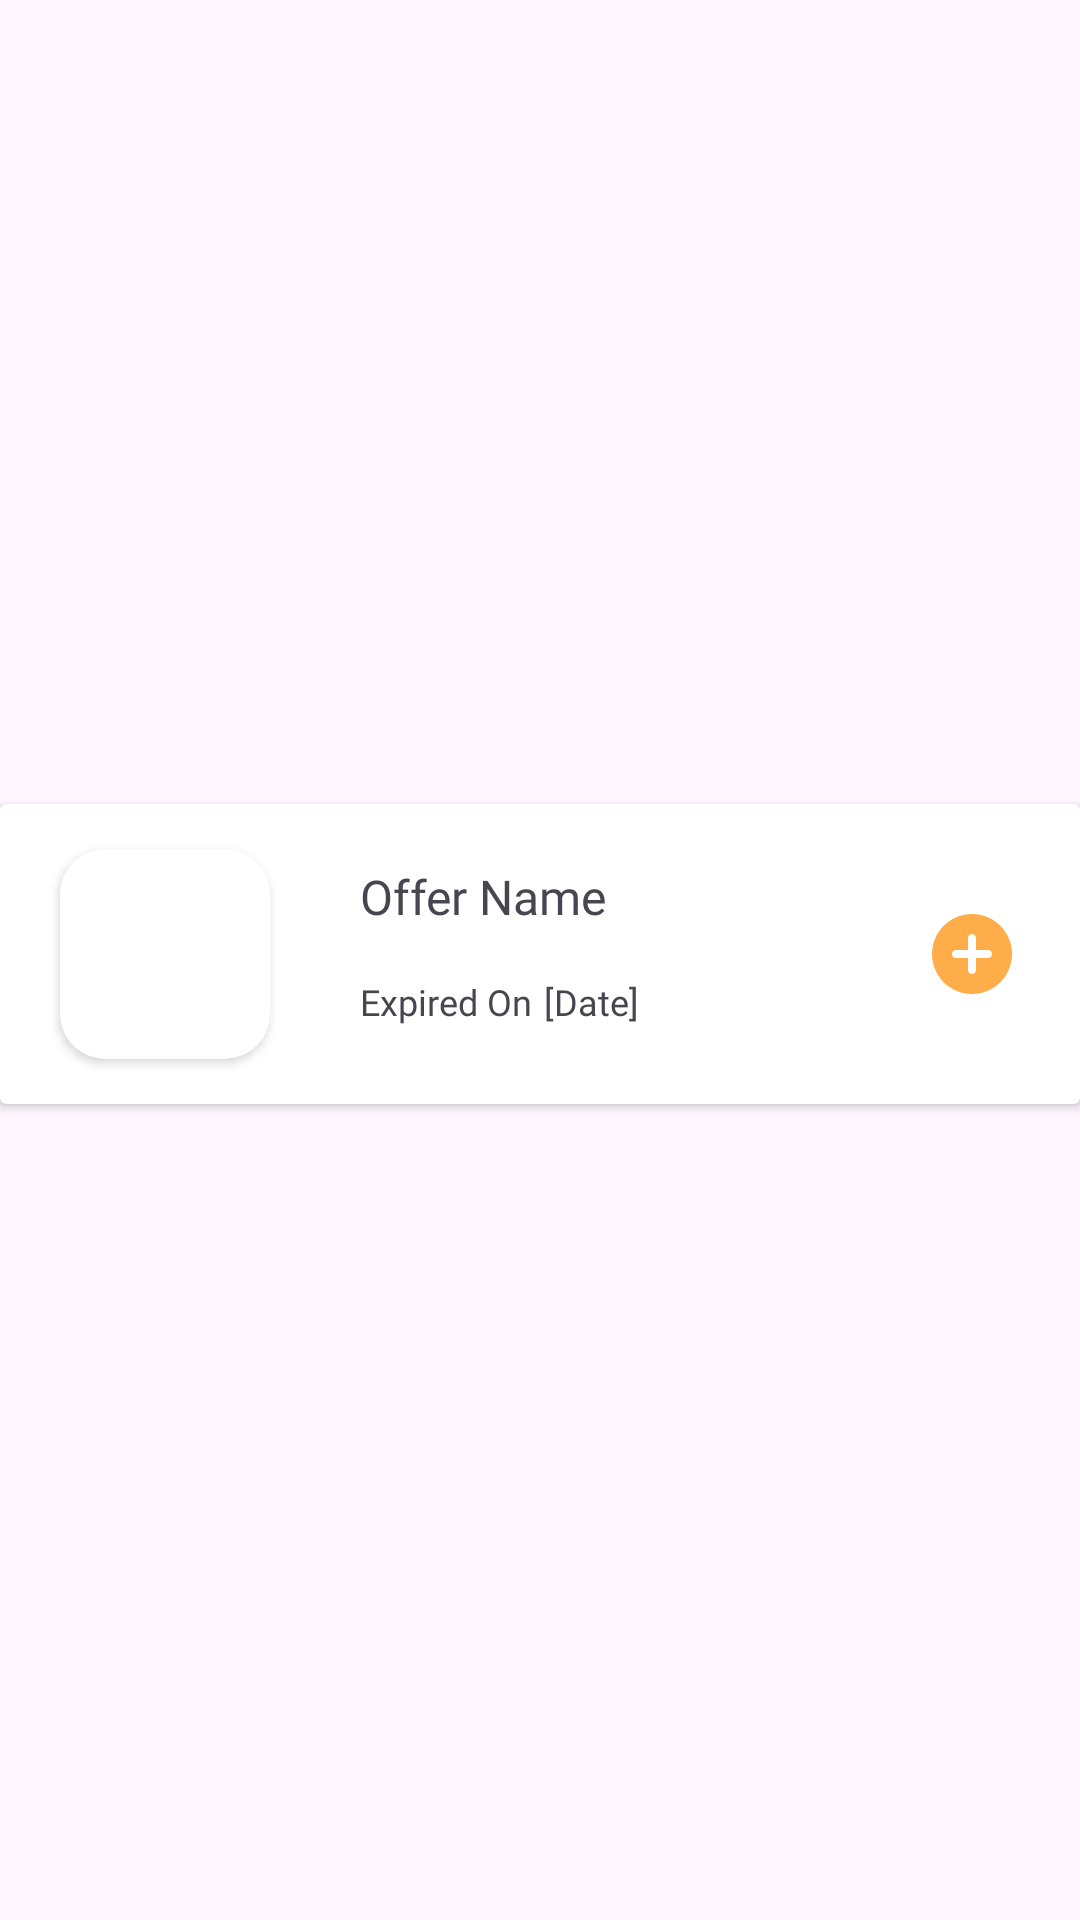

Screen size 1080 × 1920. Icon name, then its center in pixels as (x,y):
add: (972,954)
